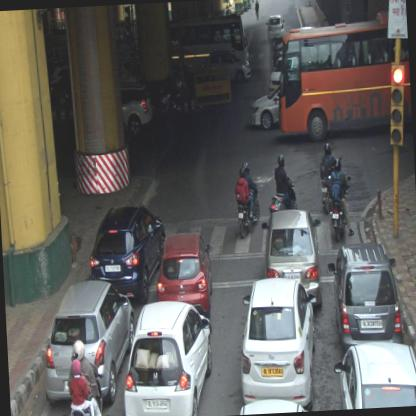bus: (273, 17, 412, 148), (169, 15, 249, 66)
car: (40, 275, 140, 407), (236, 275, 322, 410), (120, 298, 216, 415), (328, 240, 405, 350), (87, 203, 168, 303), (261, 208, 325, 311), (333, 339, 415, 410), (153, 230, 216, 320), (119, 80, 152, 136), (248, 82, 281, 128), (206, 48, 250, 80), (264, 13, 285, 40)
motorcycle: (62, 337, 105, 415), (233, 160, 262, 239), (328, 157, 354, 240), (267, 154, 299, 214), (318, 142, 338, 216)
